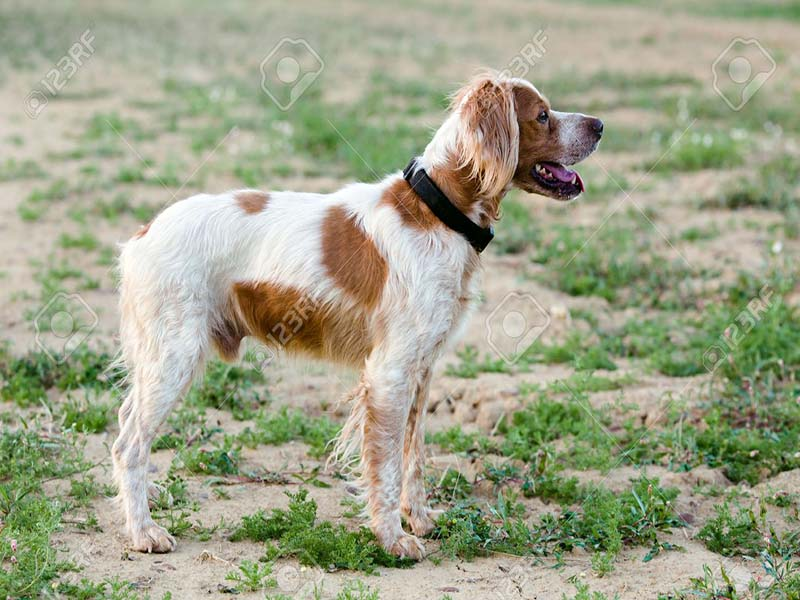cane: (105, 68, 609, 561)
